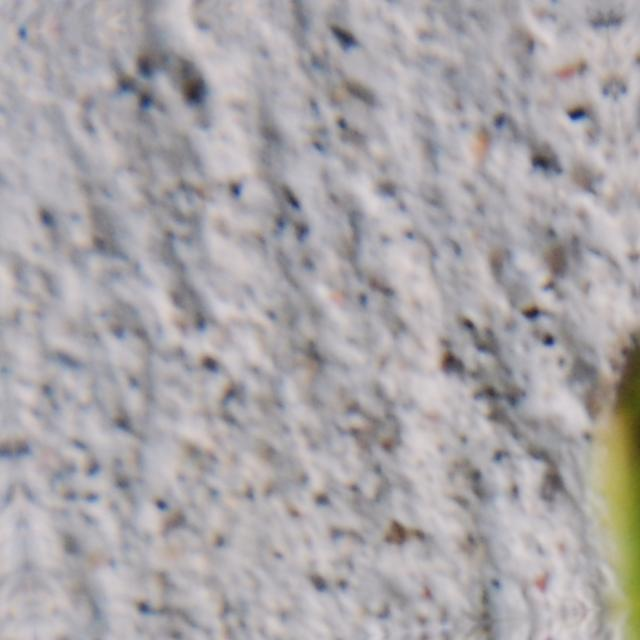Tomato Early blight leaf: (518, 291, 640, 615)
